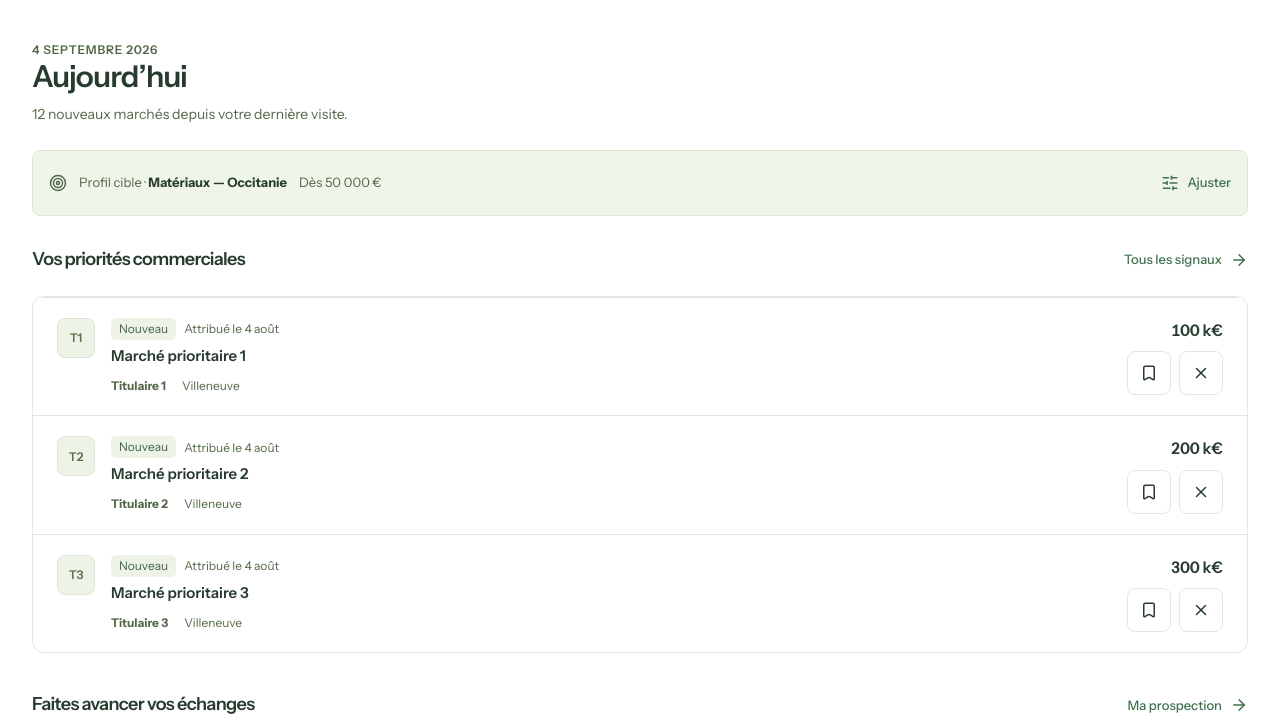
Test case: Aujourd’hui › ouvre le drawer partagé depuis une carte
This screenshot has width=1280, height=720.
Click the button with aria-label "Ouvrir : Marché prioritaire 1".
click(178, 356)  # box [111, 344, 246, 368]
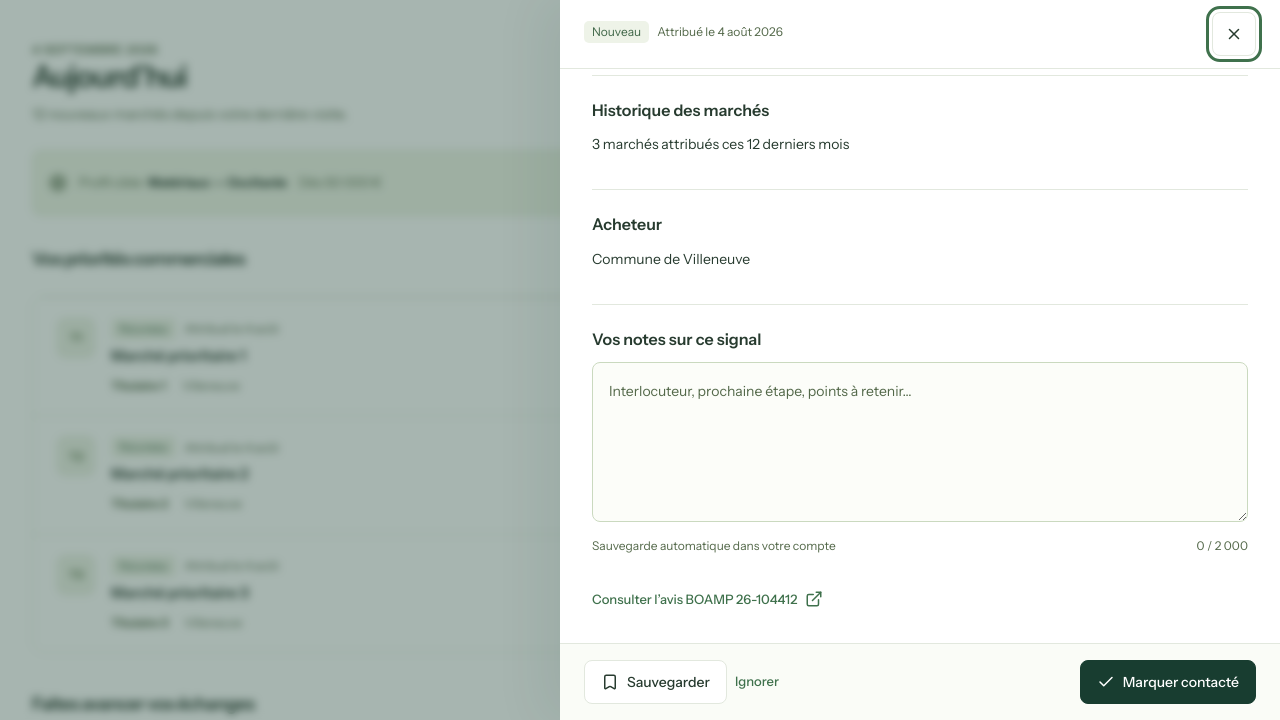
Check: the text box labelled "Vos notes sur ce signal" is shown, box [592, 362, 1248, 522]
